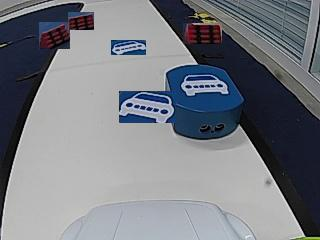safety: (179, 73, 228, 96)
